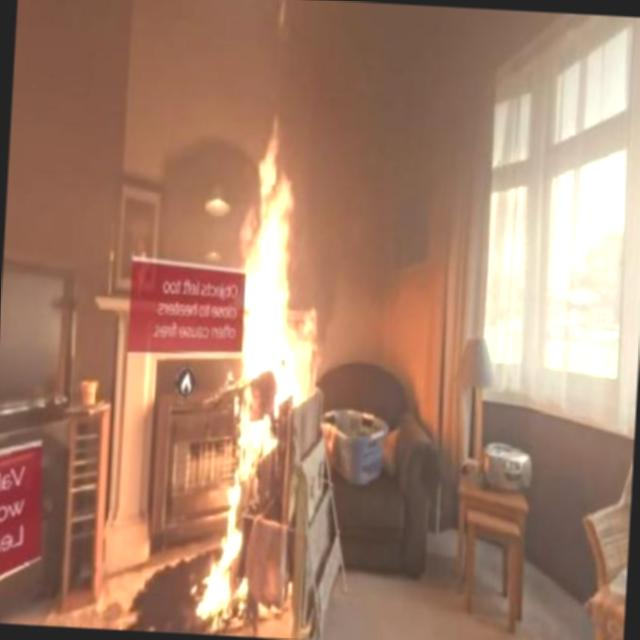fire: (235, 111, 336, 387)
